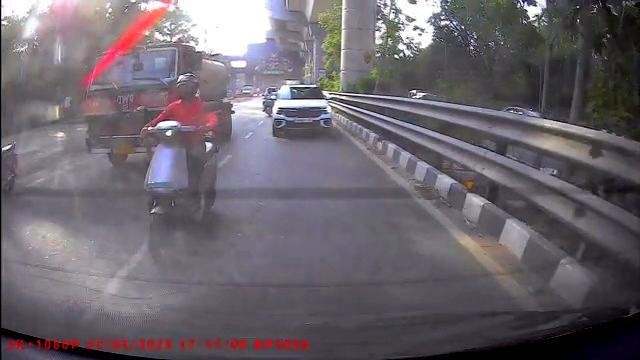motorcycle_with_helmet: (143, 69, 216, 265)
